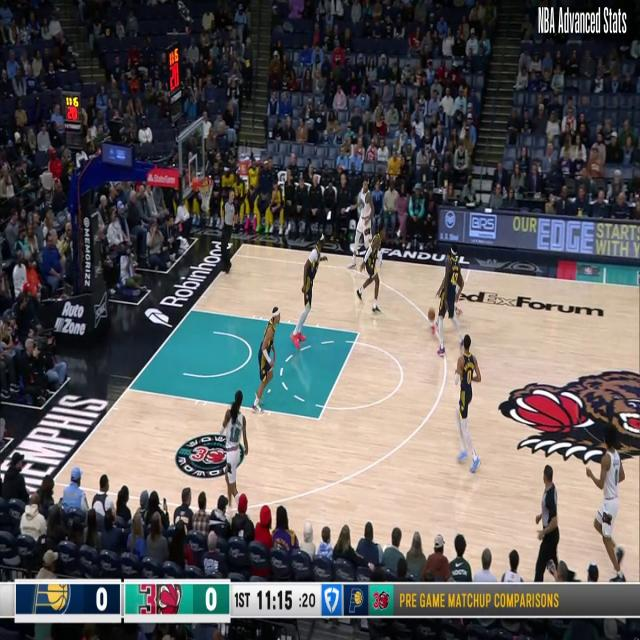ball: (426, 304, 436, 325)
judge: (531, 464, 568, 587), (219, 188, 237, 269)
player: (585, 424, 625, 577), (453, 336, 481, 471), (222, 386, 250, 520), (293, 240, 326, 346), (434, 242, 465, 352), (356, 225, 385, 318), (255, 308, 281, 411), (347, 180, 375, 272)
